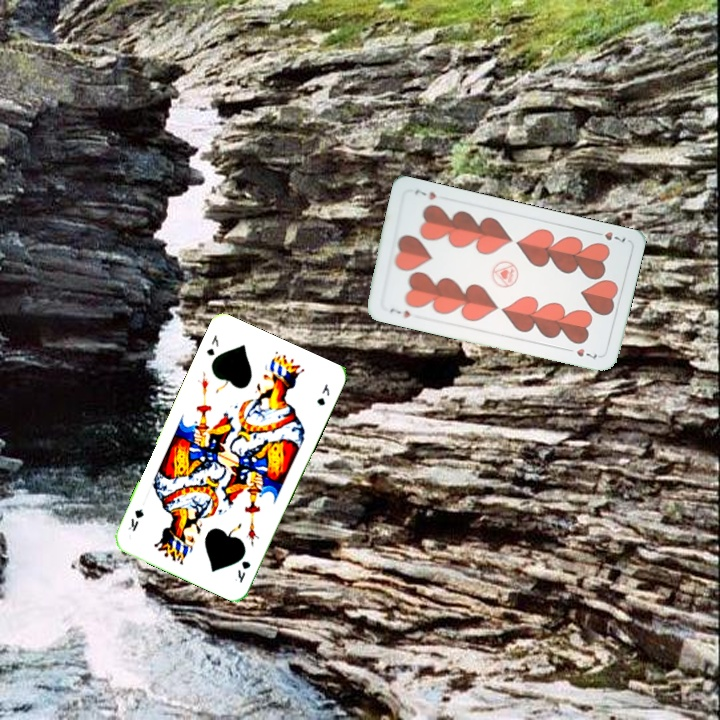GK: (234, 557, 253, 585), (202, 330, 221, 358)
H7: (590, 227, 628, 247), (386, 304, 413, 321)
